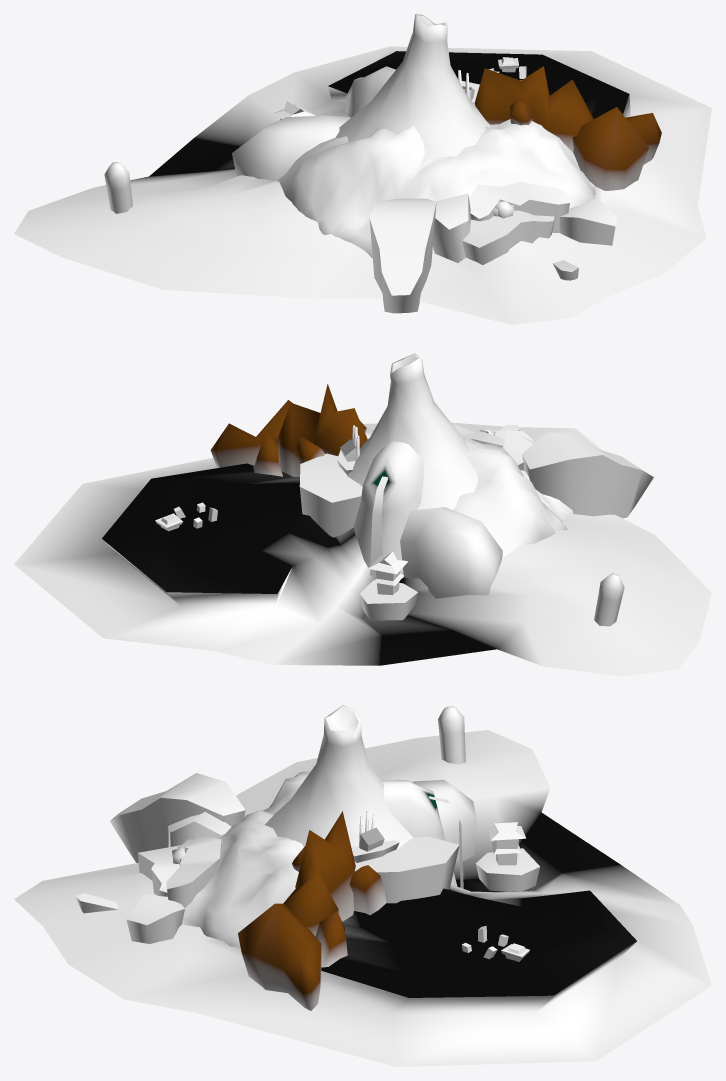
File: islandModel.fbx
The picture shows the model from 3 angles, top to bottom: view 1: azimuth 30°, elevation 25°; view 2: azimuth 150°, elevation 25°; view 3: azimuth 270°, elevation 25°; orthographic projection. The views are drawn at different scales.
Parts seen in each view (by area): view 1: Island; view 2: Island; view 3: Island.
Part boxes in pixels (bbox=[...]): Island: bbox=[14, 14, 711, 324]; Island: bbox=[14, 353, 711, 676]; Island: bbox=[14, 705, 711, 1066].
Bounding box in the file's own units: 1433 × 440 × 1261.
